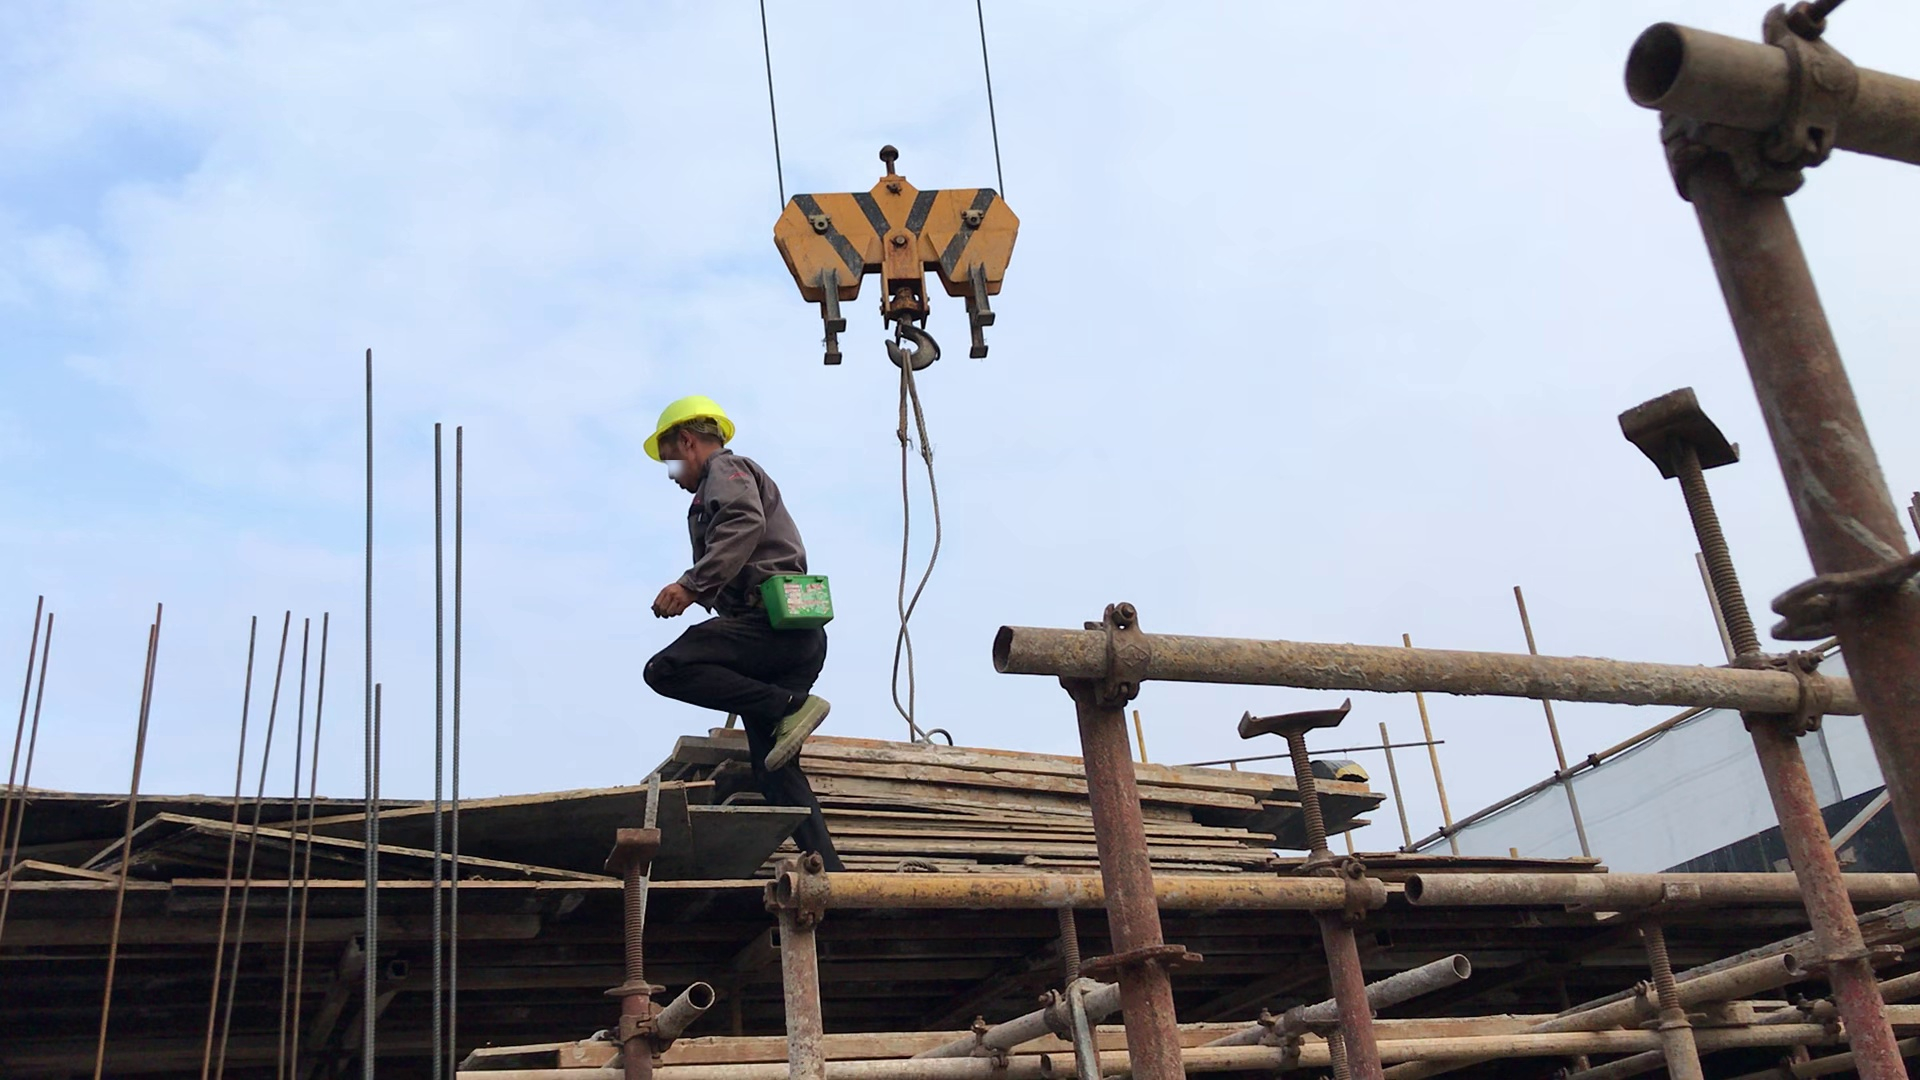board: (683, 716, 1334, 868)
helmet: (631, 390, 743, 460)
hook: (772, 146, 1046, 370)
person: (614, 394, 888, 894)
